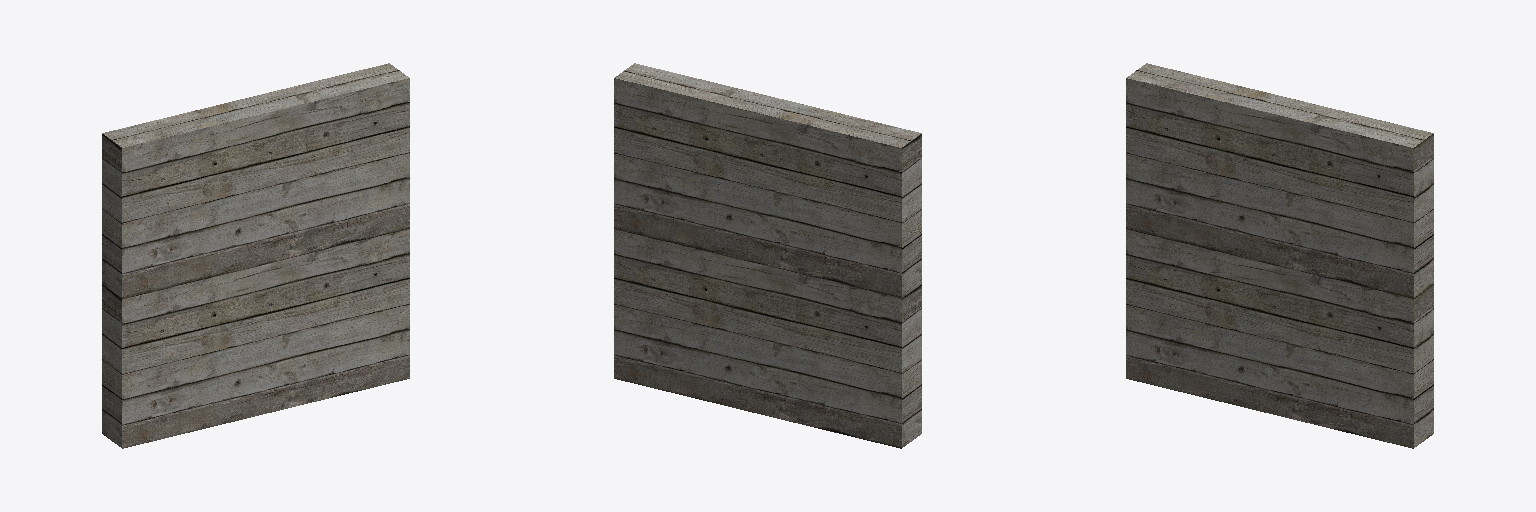
3 renders of one model, left to right at view 1: azimuth 30°, elevation 25°; view 2: azimuth 150°, elevation 25°; view 3: azimuth 330°, elevation 25°, orthographic.
Parts seen in each view (by area): view 1: Cube; view 2: Cube; view 3: Cube.
Boxes of the visible parts, box(x1,y1,x2,y2) form: Cube: box(102, 63, 409, 448); Cube: box(614, 63, 921, 448); Cube: box(1126, 63, 1433, 448).
Bounding box in the file's own units: 2 × 2 × 0.2448.
1 materials, 1 textured.